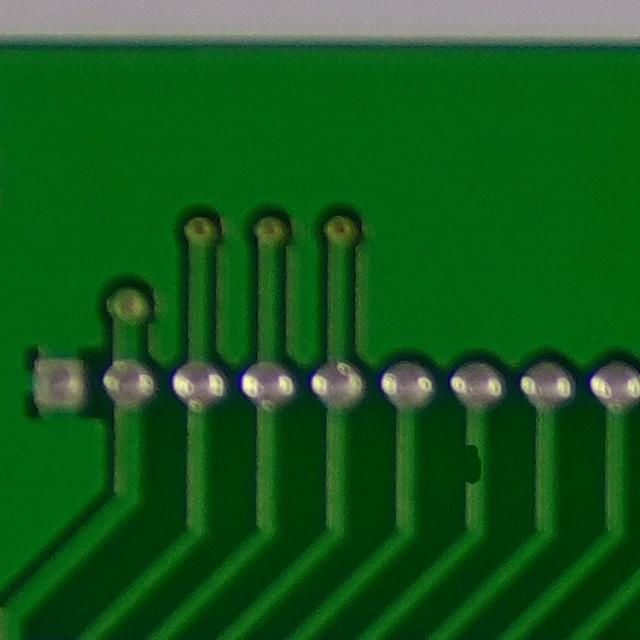mouse_bite: (446, 431, 493, 499)
